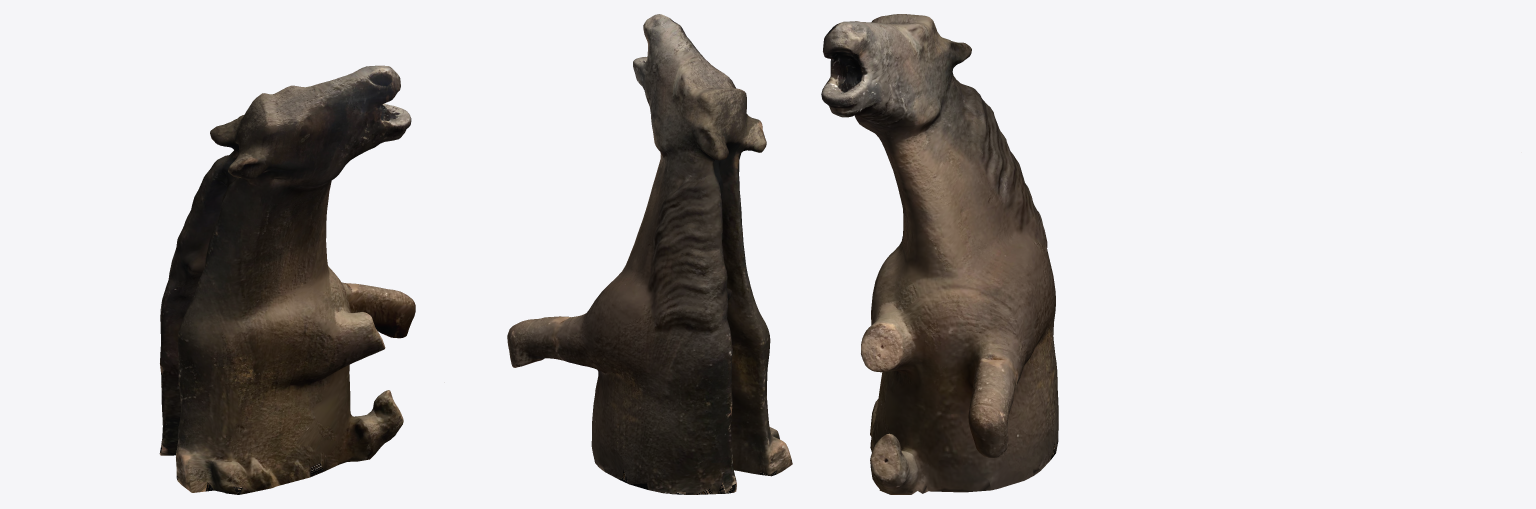
3 views of the same model, side by side, from view 1: azimuth 30°, elevation 25°; view 2: azimuth 150°, elevation 25°; view 3: azimuth 270°, elevation 25° (orthographic). The views are drawn at different scales.
Visible parts, largest first — view 1: Mesh_0; view 2: Mesh_0; view 3: Mesh_0.
Part boxes in pixels (box(x1,y1,x2,y2)): Mesh_0: box(159, 65, 415, 494); Mesh_0: box(507, 14, 792, 494); Mesh_0: box(821, 14, 1058, 494).
Bounding box in the file's own units: 1.69 × 2.52 × 3.44.
4 materials, 4 textured.
